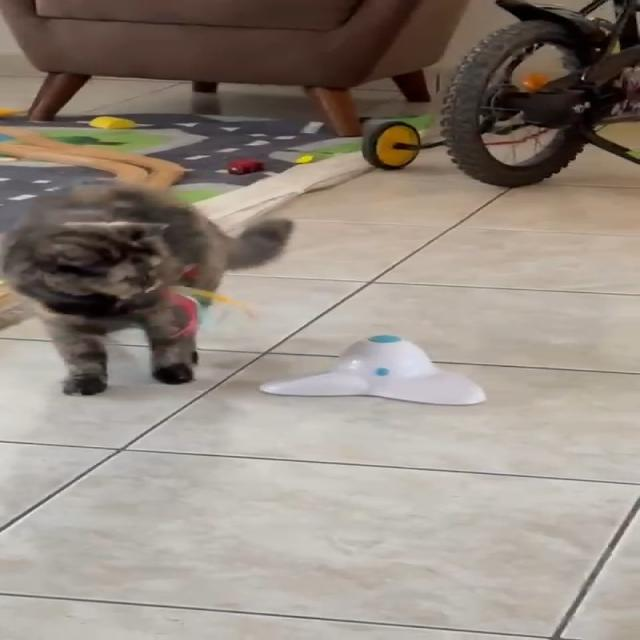authorized: (0, 180, 293, 396)
